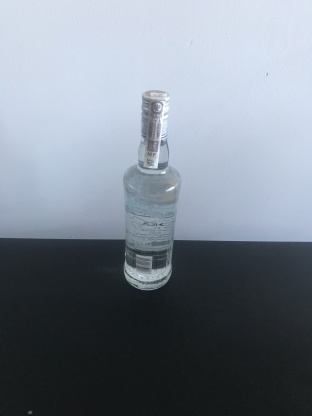nakretka: (138, 86, 173, 142)
